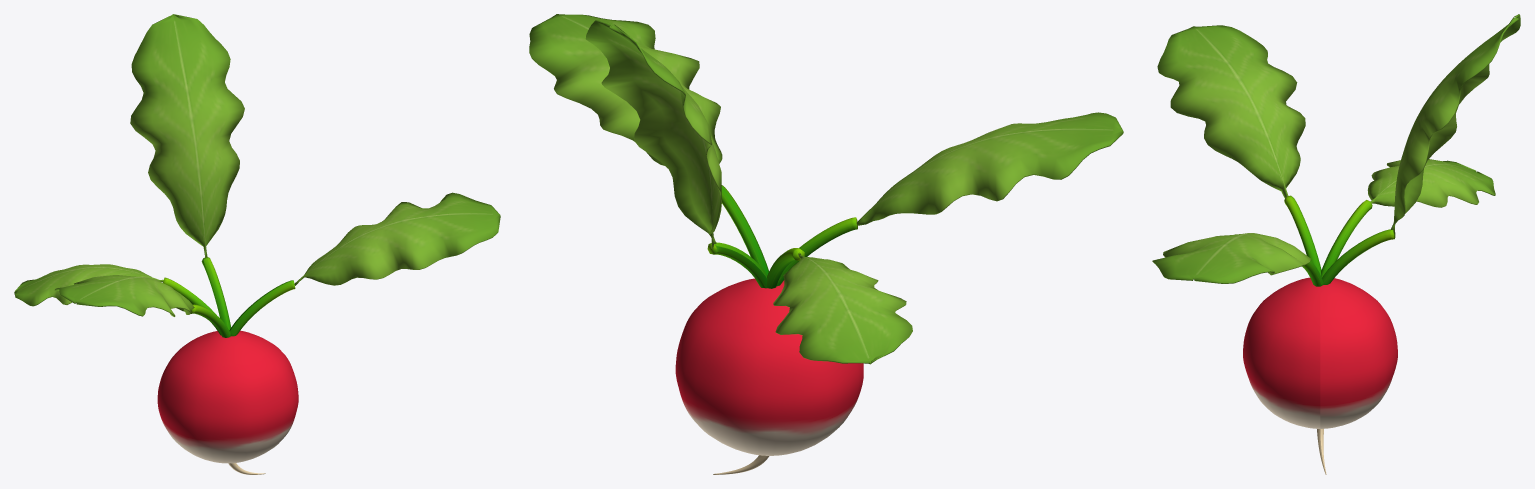
Rendered from NP_Radish_RootForming.fbx.
3 renders of one model, left to right at view 1: azimuth 30°, elevation 25°; view 2: azimuth 150°, elevation 25°; view 3: azimuth 270°, elevation 25°, orthographic. The views are drawn at different scales.
Parts seen in each view (by area): view 1: NP_Radish_RootForming; view 2: NP_Radish_RootForming; view 3: NP_Radish_RootForming.
Boxes of the visible parts, bbox=[...] form: NP_Radish_RootForming: bbox=[14, 14, 500, 474]; NP_Radish_RootForming: bbox=[529, 14, 1123, 474]; NP_Radish_RootForming: bbox=[1152, 14, 1520, 474].
Bounding box in the file's own units: 79.29 × 70.24 × 51.73.
